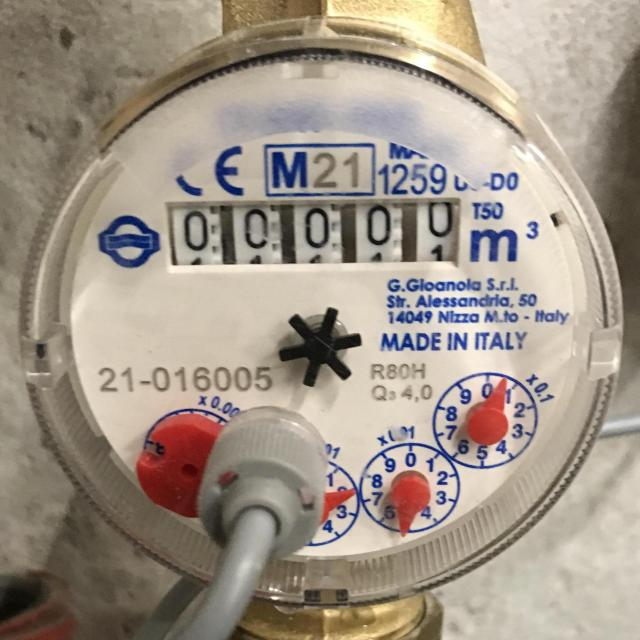gaz_meter: (57, 52, 593, 561)
indication: (163, 195, 463, 268)
